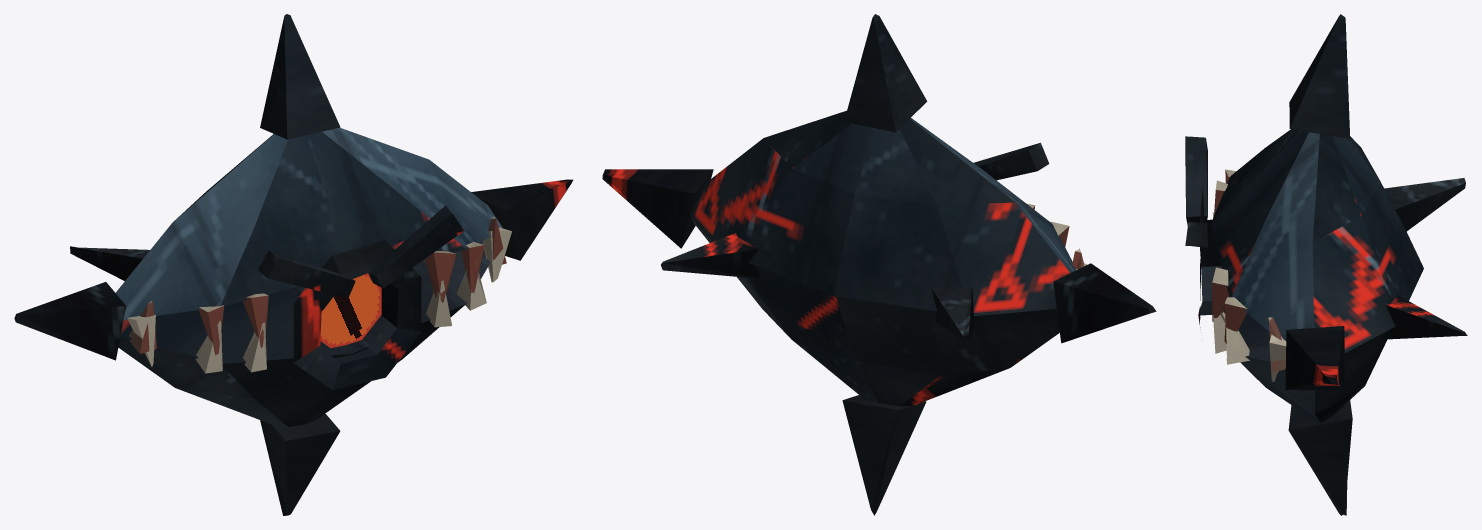
File: CHR_Watcher.fbx
3 renders of one model, left to right at view 1: azimuth 30°, elevation 25°; view 2: azimuth 150°, elevation 25°; view 3: azimuth 270°, elevation 25°, orthographic.
Parts seen in each view (by area): view 1: M_WatcherShell, M_WatcherEye; view 2: M_WatcherShell; view 3: M_WatcherShell.
Boxes of the visible parts, x1,y1,x2,y2 form: M_WatcherShell: [14, 14, 573, 515]; M_WatcherEye: [300, 273, 381, 347]; M_WatcherShell: [602, 14, 1156, 515]; M_WatcherShell: [1185, 14, 1467, 515].
Size of the model in its own units: 72.4 by 62.45 by 31.93.
Materials: 2 (2 with a texture image).
